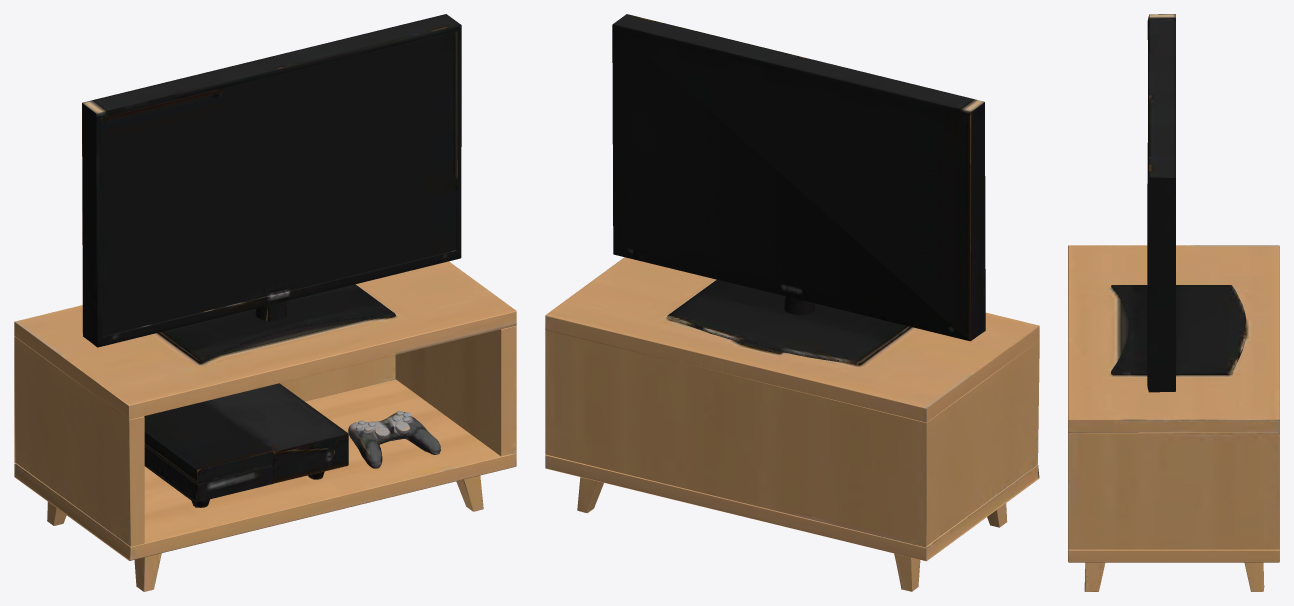
Rendered from tv_stand.glb.
The picture shows the model from 3 angles, left to right: view 1: azimuth 30°, elevation 25°; view 2: azimuth 150°, elevation 25°; view 3: azimuth 270°, elevation 25°; orthographic projection. The views are drawn at different scales.
Size of the model in its own units: 0.8482 by 0.9531 by 0.4355.
Materials: 1 (1 with a texture image).
